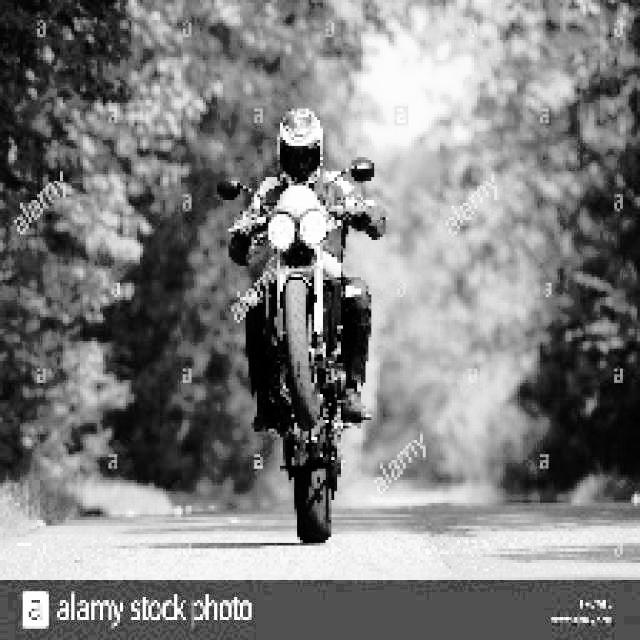Bike: (248, 185, 349, 549)
